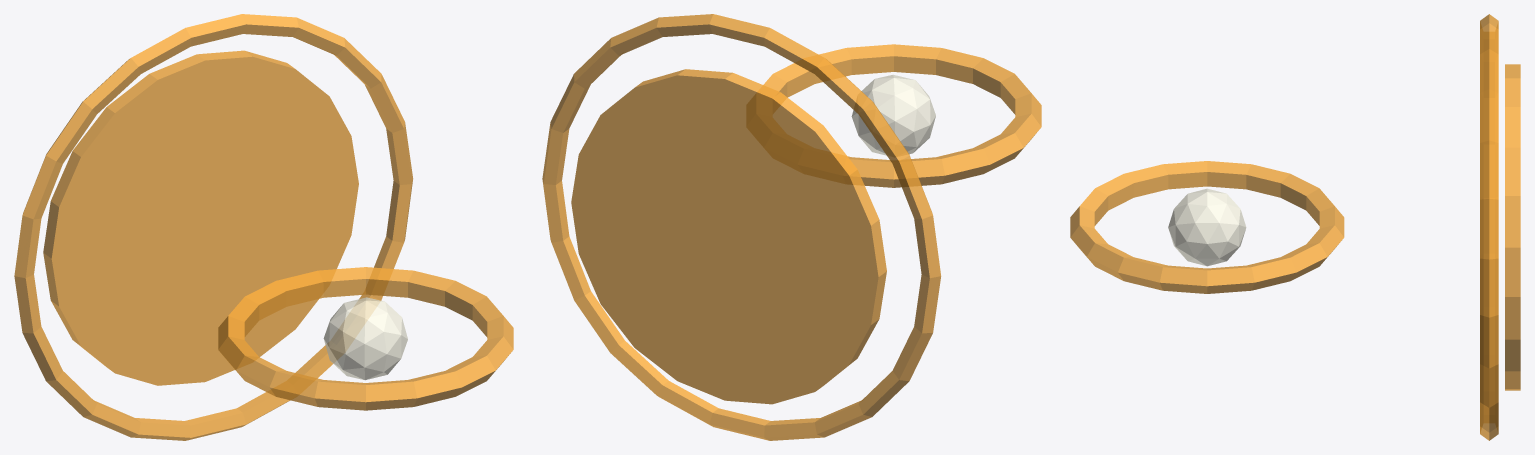
The model's file is party_member_marker.glb.
The picture shows the model from 3 angles, left to right: view 1: azimuth 30°, elevation 25°; view 2: azimuth 150°, elevation 25°; view 3: azimuth 270°, elevation 25°; orthographic projection. The views are drawn at different scales.
Parts seen in each view (by area): view 1: marker_disc, marker_ring, icon_ring, icon_core; view 2: marker_disc, marker_ring, icon_ring, icon_core; view 3: icon_ring, marker_ring, marker_disc, icon_core.
Part boxes in pixels (x1,y1,x2,y2): marker_disc: (43,50,358,385); marker_ring: (14,14,413,440); icon_ring: (218,267,513,410); icon_core: (323,297,407,380); marker_disc: (571,69,886,404); marker_ring: (542,14,941,440); icon_ring: (763,44,1041,187); icon_core: (851,74,935,155); icon_ring: (1070,161,1344,293); marker_ring: (1480,14,1498,440); marker_disc: (1505,64,1520,390); icon_core: (1168,188,1246,266).
Bounding box in the file's own units: 1.09 × 1.08 × 1.15.
